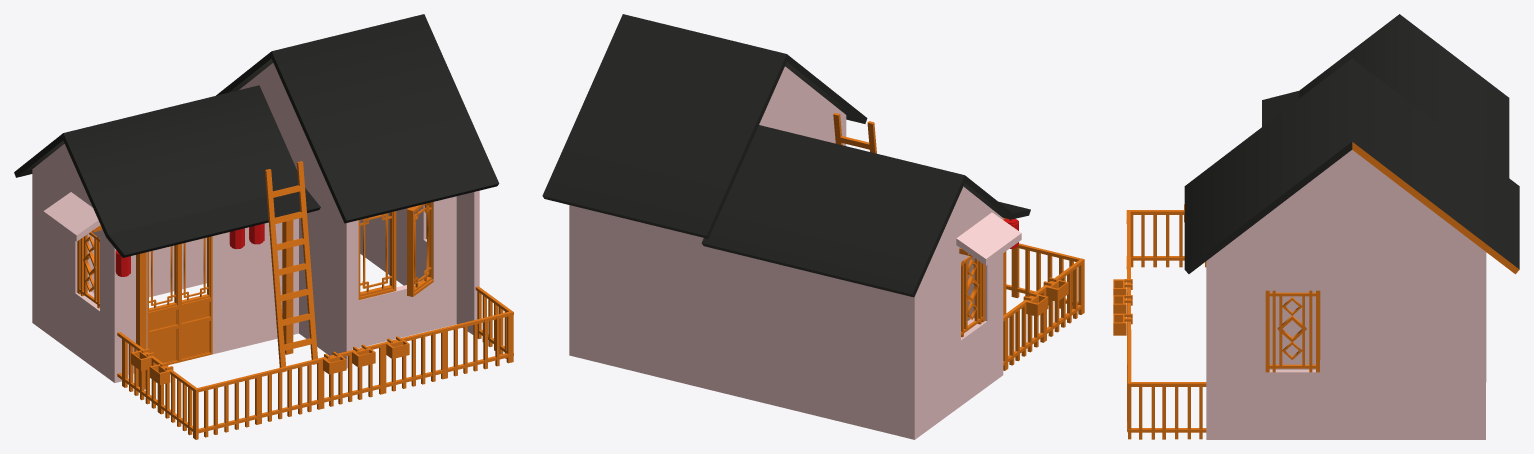
File: wuzi1.fbx
The picture shows the model from 3 angles, left to right: view 1: azimuth 30°, elevation 25°; view 2: azimuth 150°, elevation 25°; view 3: azimuth 270°, elevation 25°; orthographic projection. The views are drawn at different scales.
Visible parts, largest first — view 1: Box006, Box009, Box035, Tube004, Box037, 对象009, 对象010, Box041, Box007, Box048, Cylinder003; view 2: Box009, Box006, Box035, Box007, Box048, Box041, Box037; view 3: Box009, Box006, Box035, Box048, Box041.
Part boxes in pixels (<box>): Box006: <box>14,14,499,257</box>; Box009: <box>32,63,479,382</box>; Box035: <box>117,286,513,439</box>; Tube004: <box>147,236,212,364</box>; Box037: <box>265,161,317,372</box>; 对象009: <box>358,202,433,299</box>; 对象010: <box>136,220,293,389</box>; Box041: <box>131,336,409,384</box>; Box007: <box>43,192,100,241</box>; Box048: <box>77,212,426,308</box>; Cylinder003: <box>115,223,264,276</box>; Box009: <box>569,66,1003,439</box>; Box006: <box>542,14,1030,297</box>; Box035: <box>1003,243,1084,370</box>; Box007: <box>956,212,1021,265</box>; Box048: <box>961,256,985,337</box>; Box041: <box>1023,277,1068,316</box>; Box037: <box>833,113,876,153</box>; Box009: <box>1206,150,1486,439</box>; Box006: <box>1184,14,1519,274</box>; Box035: <box>1126,210,1206,439</box>; Box048: <box>1265,290,1320,372</box>; Box041: <box>1113,204,1184,335</box>.
Bounding box in the file's own units: 829 × 599 × 726.
